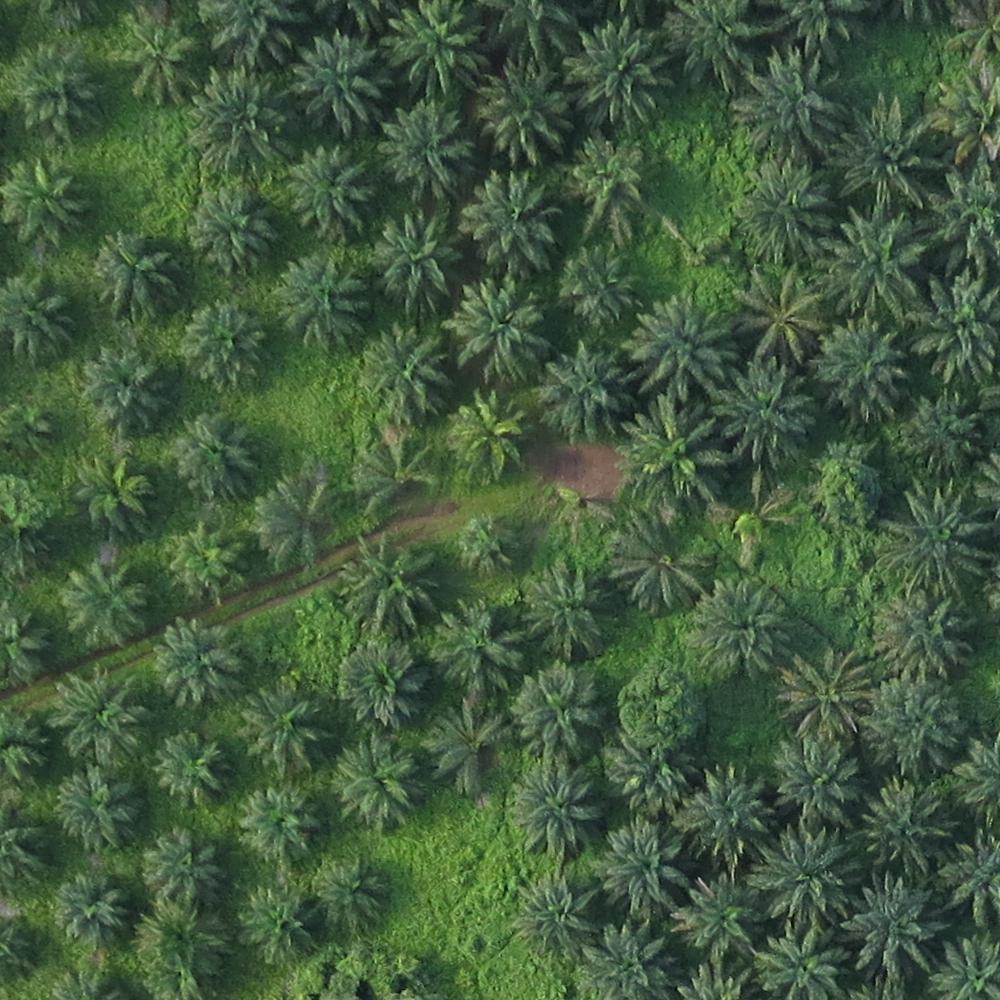Palm: (878, 484, 994, 598), (621, 402, 740, 505), (563, 19, 681, 122), (838, 97, 940, 215), (739, 48, 847, 152), (821, 213, 924, 321), (449, 277, 553, 383), (515, 558, 625, 657), (754, 823, 856, 928), (671, 765, 780, 863), (629, 296, 736, 395), (808, 319, 908, 424), (191, 69, 292, 171), (463, 169, 563, 272), (382, 1, 488, 98), (863, 678, 970, 774), (848, 877, 948, 979), (867, 589, 975, 683), (711, 363, 811, 464), (336, 532, 437, 631), (380, 99, 480, 198), (328, 731, 429, 829), (914, 272, 1000, 386), (289, 31, 390, 128), (505, 760, 606, 857), (475, 60, 571, 162), (737, 157, 833, 259), (8, 44, 103, 146), (539, 343, 636, 442), (508, 662, 612, 754), (728, 264, 829, 358), (596, 815, 692, 913), (685, 579, 787, 671), (48, 668, 146, 763), (285, 145, 381, 241), (235, 680, 334, 772), (778, 652, 881, 740), (253, 479, 349, 573), (671, 869, 769, 961), (366, 208, 462, 301), (106, 9, 202, 101), (274, 254, 373, 343), (861, 776, 955, 869), (65, 451, 161, 541), (333, 638, 429, 728), (55, 561, 153, 649), (164, 414, 262, 502), (180, 301, 274, 392), (136, 901, 231, 991), (154, 616, 242, 710), (605, 729, 700, 816), (563, 133, 650, 226), (362, 325, 450, 416), (668, 2, 761, 88), (770, 740, 866, 823), (188, 182, 280, 267), (442, 393, 531, 480), (54, 764, 142, 851), (238, 885, 328, 969), (580, 921, 675, 1000), (5, 155, 88, 244), (82, 348, 171, 431), (89, 230, 175, 315), (160, 522, 250, 602), (517, 871, 605, 952), (755, 928, 852, 1000), (4, 269, 82, 358), (551, 245, 640, 321), (239, 785, 327, 861), (140, 828, 223, 907), (151, 730, 232, 810), (314, 858, 397, 932), (51, 872, 130, 947)
